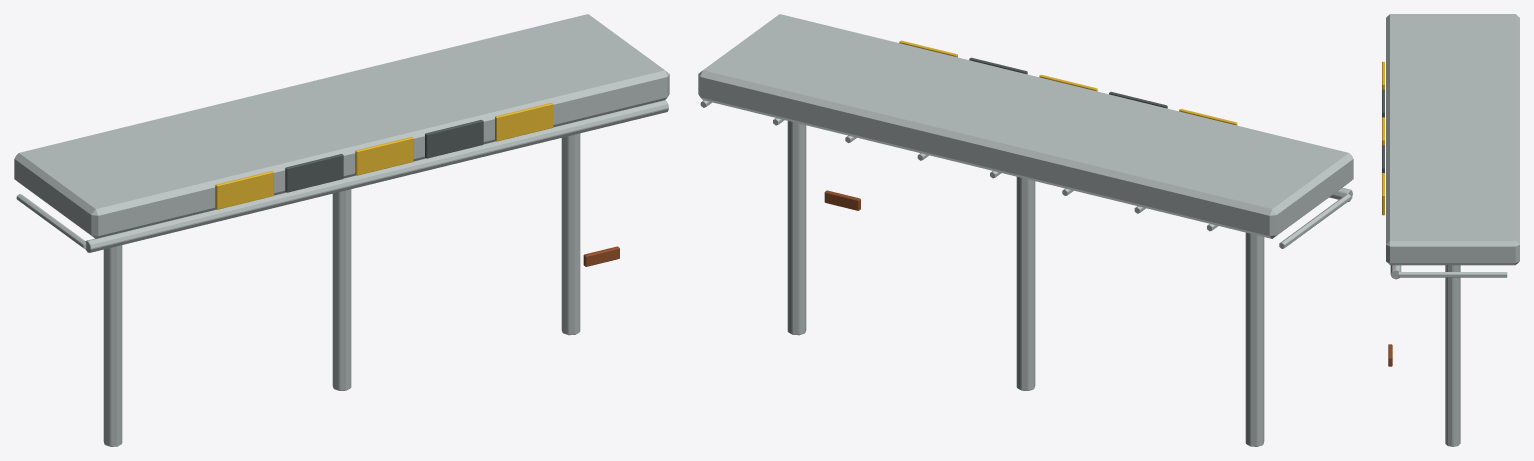
The model's file is runtime.glb.
3 views of the same model, side by side, from view 1: azimuth 30°, elevation 25°; view 2: azimuth 150°, elevation 25°; view 3: azimuth 270°, elevation 25° (orthographic). The views are drawn at different scales.
Visible parts, largest first — view 1: reactor-cable-tray-v08_nocol; view 2: reactor-cable-tray-v08_nocol; view 3: reactor-cable-tray-v08_nocol.
Boxes of the visible parts, x1,y1,x2,y2 form: reactor-cable-tray-v08_nocol: [14, 14, 669, 446]; reactor-cable-tray-v08_nocol: [698, 14, 1353, 446]; reactor-cable-tray-v08_nocol: [1382, 14, 1519, 446].
Size of the model in its own units: 4.51 by 2.04 by 1.13.
